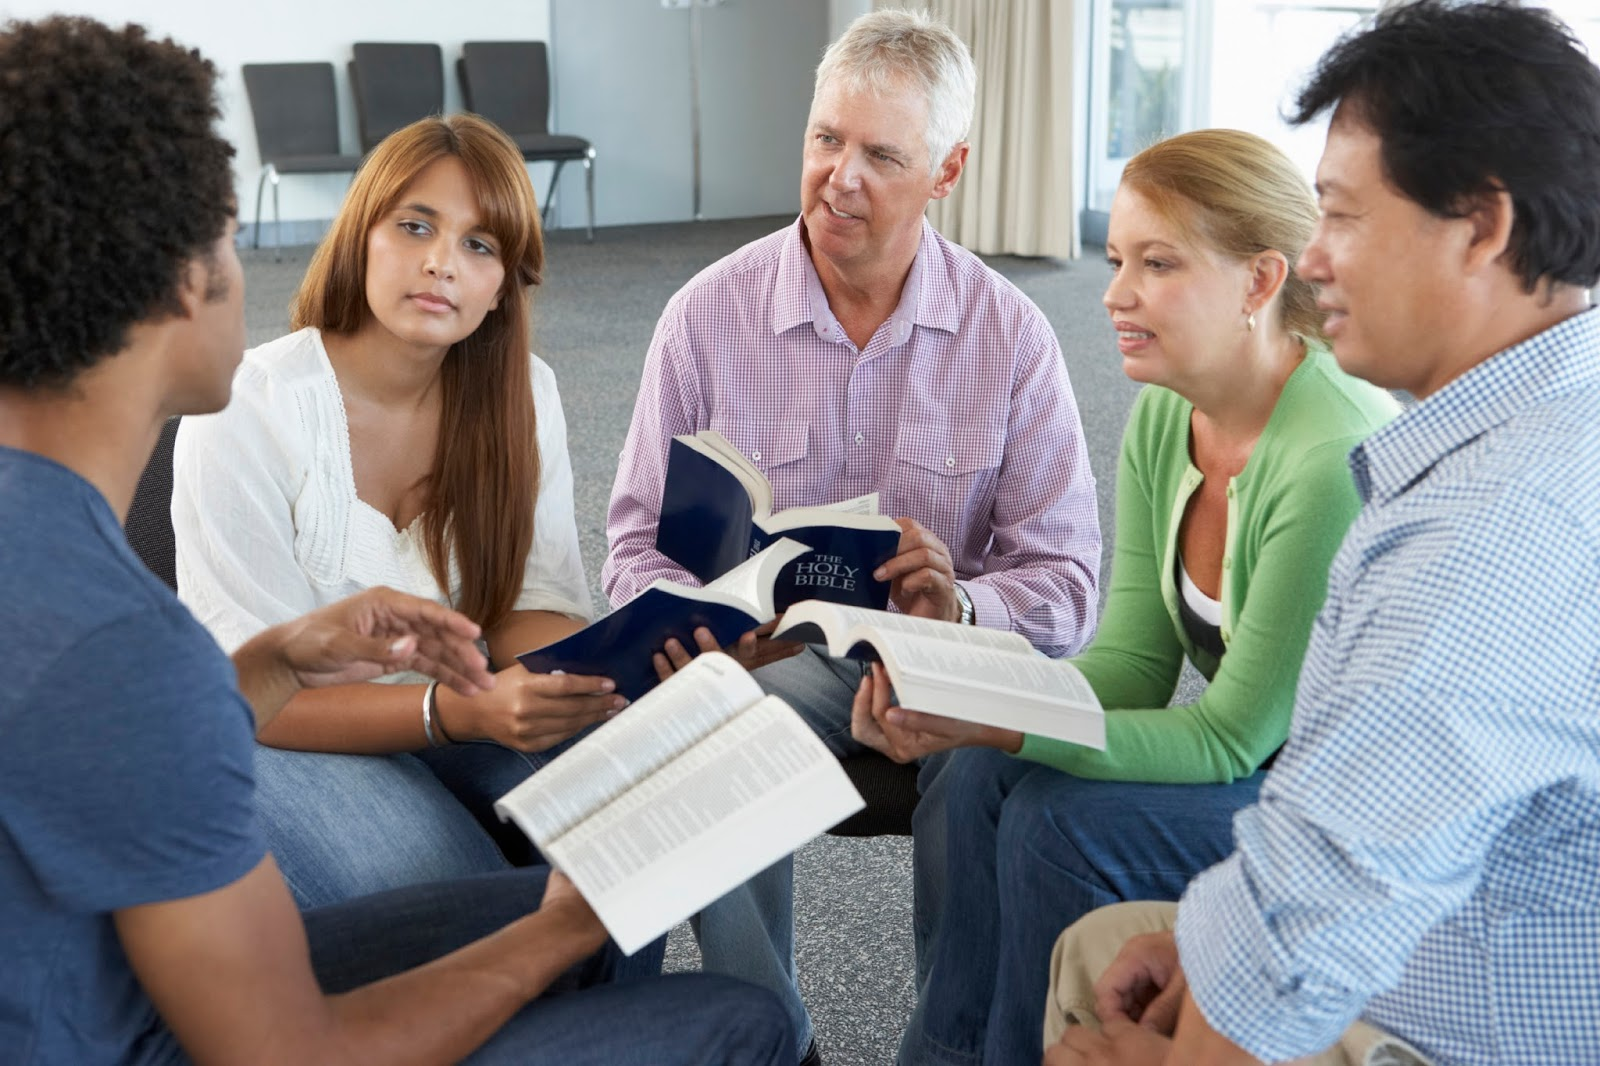Person: (1, 40, 333, 1065), (716, 32, 1050, 1024), (1291, 24, 1600, 1066), (316, 99, 583, 765), (1108, 174, 1300, 882)
